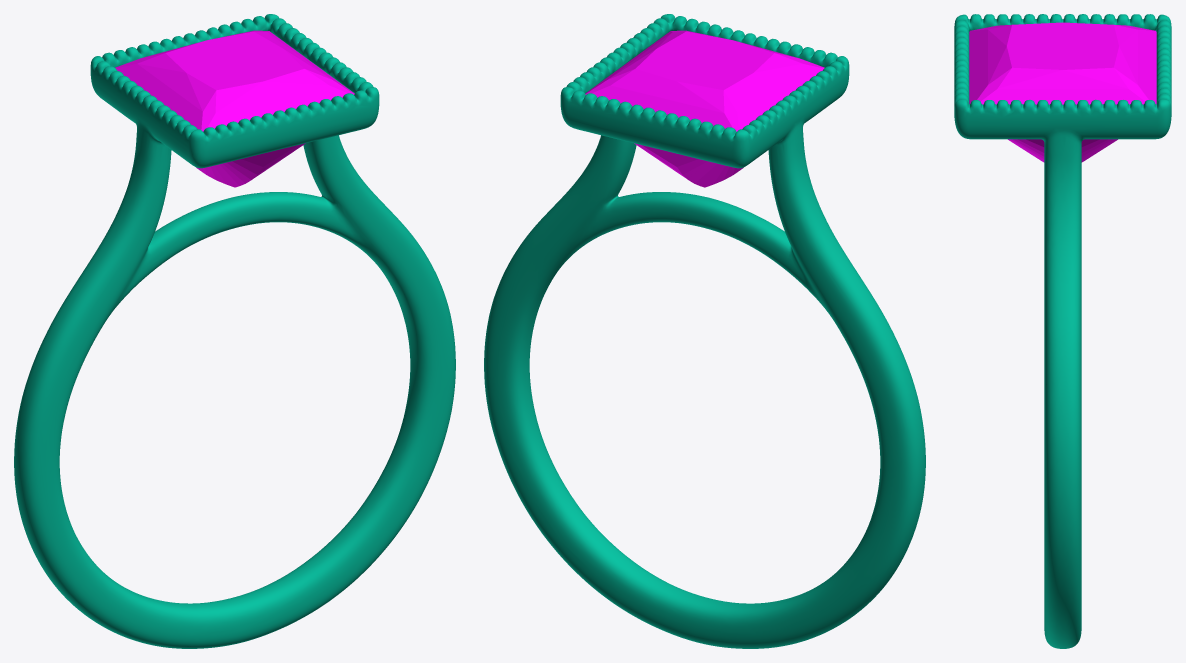
File: BE1D27B5_PR_200ct_RENDER.glb
The picture shows the model from 3 angles, left to right: view 1: azimuth 30°, elevation 25°; view 2: azimuth 150°, elevation 25°; view 3: azimuth 270°, elevation 25°; orthographic projection.
Visible parts, largest first — view 1: Metal 01, CS_Diamond_Princess; view 2: Metal 01, CS_Diamond_Princess; view 3: Metal 01, CS_Diamond_Princess.
Part boxes in pixels (x1,y1,x2,y2): Metal 01: [14, 14, 455, 648]; CS_Diamond_Princess: [115, 30, 354, 187]; Metal 01: [484, 14, 925, 648]; CS_Diamond_Princess: [585, 30, 824, 187]; Metal 01: [954, 14, 1171, 648]; CS_Diamond_Princess: [969, 22, 1156, 162].
Bounding box in the file's own units: 20.08 × 25.59 × 8.71.
